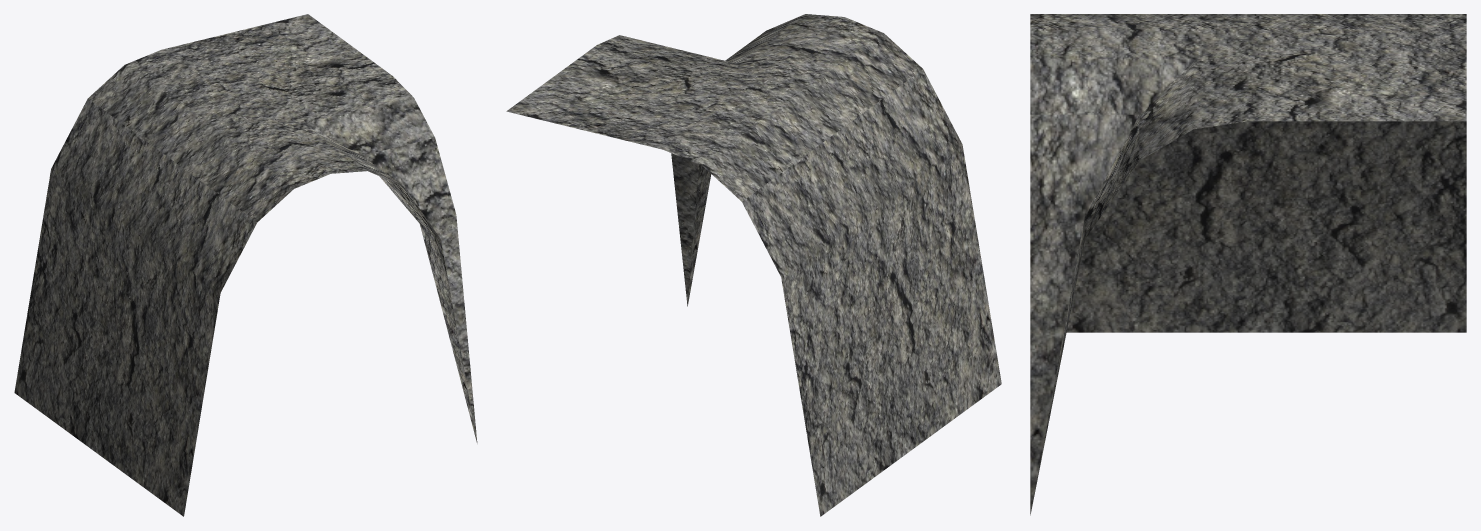
Rendered from Stone3b.obj.
3 renders of one model, left to right at view 1: azimuth 30°, elevation 25°; view 2: azimuth 150°, elevation 25°; view 3: azimuth 270°, elevation 25°, orthographic. The views are drawn at different scales.
Parts seen in each view (by area): view 1: Grid_Grid.022_Grid_Grid.041; view 2: Grid_Grid.022_Grid_Grid.041; view 3: Grid_Grid.022_Grid_Grid.041.
Boxes of the visible parts, x1,y1,x2,y2 form: Grid_Grid.022_Grid_Grid.041: (14,14,477,516); Grid_Grid.022_Grid_Grid.041: (506,14,1001,516); Grid_Grid.022_Grid_Grid.041: (1030,14,1466,515).
Size of the model in its own units: 1 by 1 by 1.
Materials: 1 (1 with a texture image).
